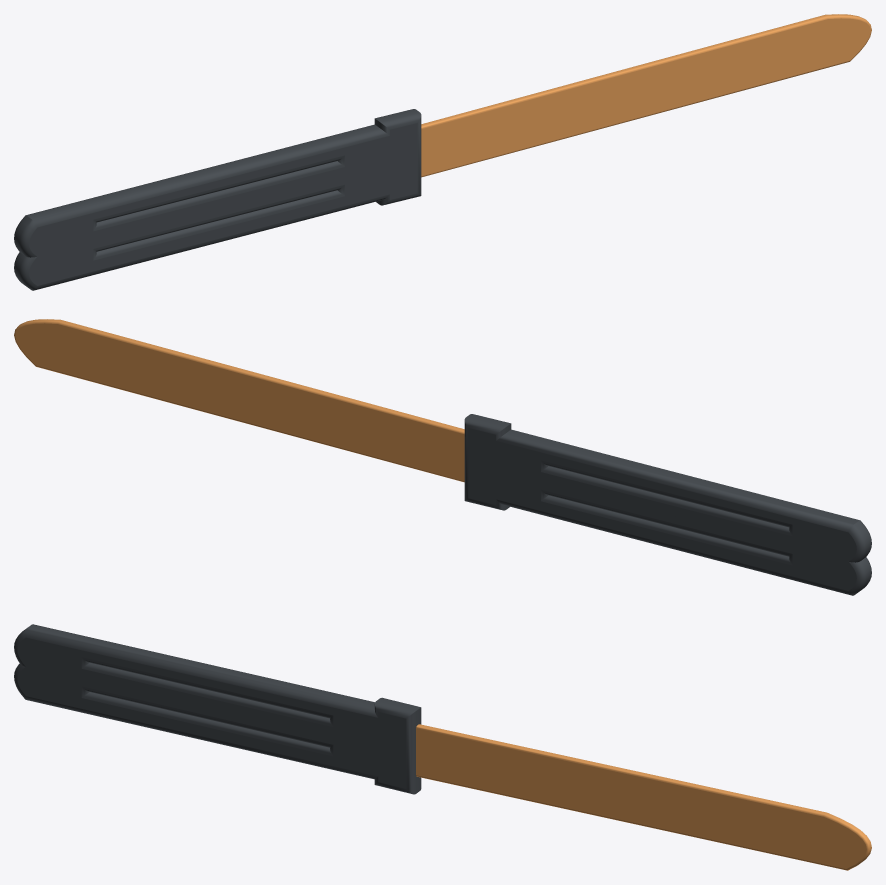
File: butterfly.glb
3 renders of one model, top to bottom at view 1: azimuth 30°, elevation 25°; view 2: azimuth 150°, elevation 25°; view 3: azimuth 330°, elevation 25°, orthographic.
Visible parts, largest first — view 1: paint_0, metal_1, metal_2, metal_3; view 2: paint_0, metal_1, metal_2, metal_3; view 3: paint_0, metal_1, metal_2, metal_3.
Part boxes in pixels (<box>): paint_0: <box>421,14,871,177</box>; metal_1: <box>14,124,389,257</box>; metal_2: <box>14,165,389,290</box>; metal_3: <box>374,109,421,205</box>; paint_0: <box>14,319,464,482</box>; metal_1: <box>496,429,871,562</box>; metal_2: <box>496,470,871,595</box>; metal_3: <box>464,414,511,510</box>; paint_0: <box>416,724,871,870</box>; metal_1: <box>14,624,389,749</box>; metal_2: <box>14,663,389,779</box>; metal_3: <box>374,697,421,794</box>.
Bounding box in the file's own units: 305 × 28.33 × 7.2.
